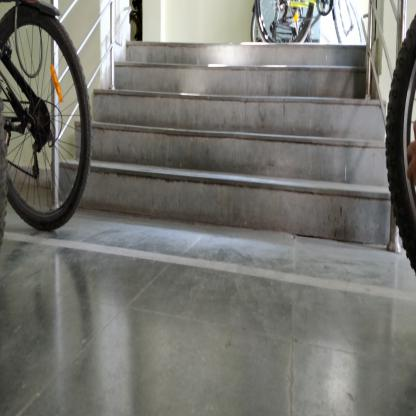stairs: (129, 41, 364, 252)
